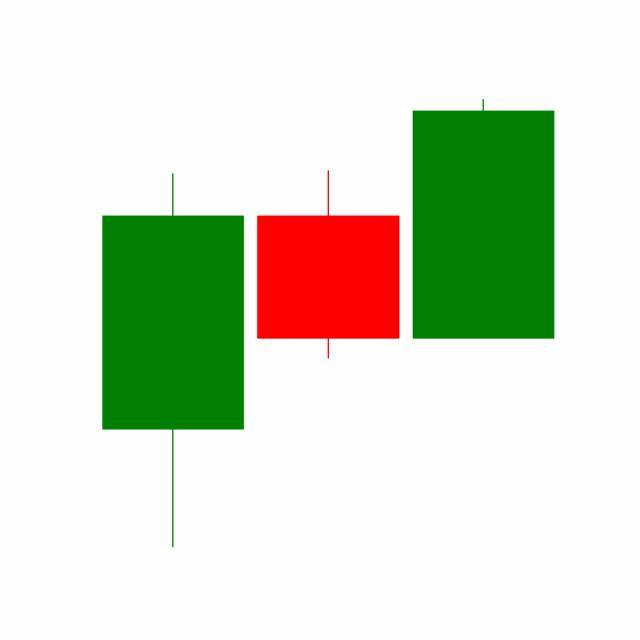Marubozu: (406, 97, 562, 342)
